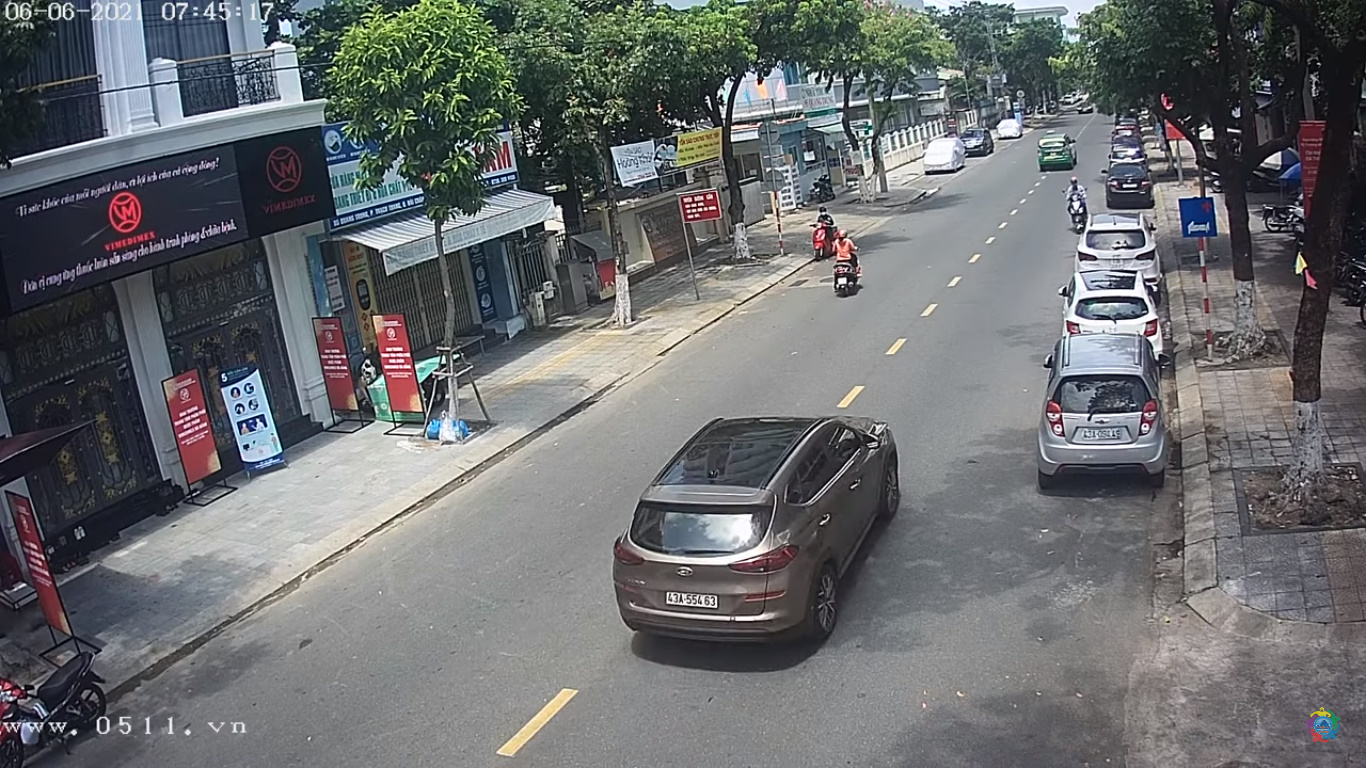car: (607, 412, 908, 657)
